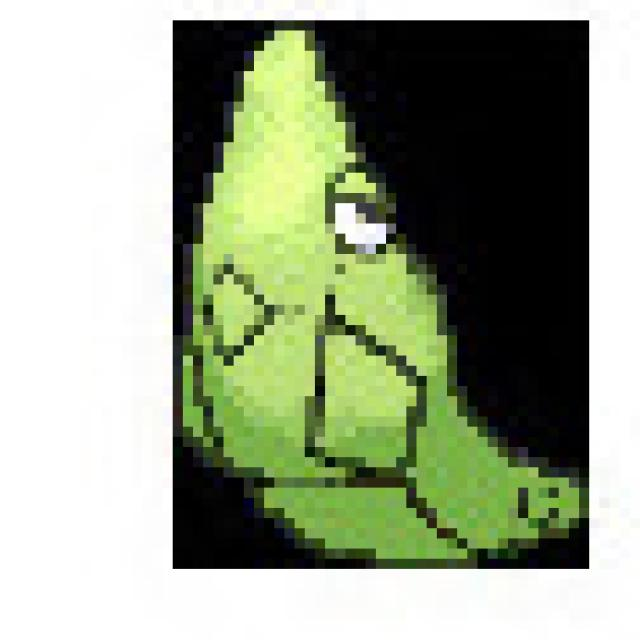Metapod: (162, 26, 586, 576)
